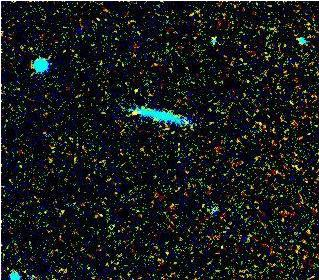star: (121, 98, 151, 128)
